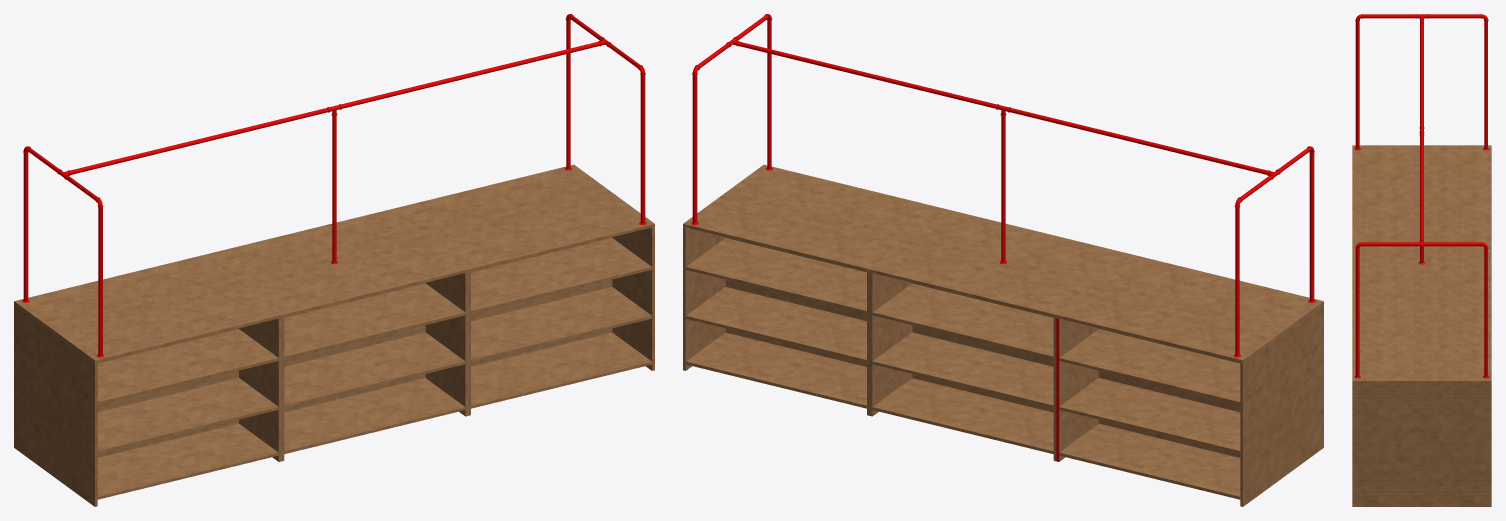
The model's file is ClothHangingTable.fbx.
The picture shows the model from 3 angles, left to right: view 1: azimuth 30°, elevation 25°; view 2: azimuth 150°, elevation 25°; view 3: azimuth 270°, elevation 25°; orthographic projection. The views are drawn at different scales.
Parts seen in each view (by area): view 1: ClothHangingTable; view 2: ClothHangingTable; view 3: ClothHangingTable.
Part boxes in pixels (x1,y1,x2,y2): ClothHangingTable: (14, 14, 654, 506); ClothHangingTable: (683, 14, 1323, 506); ClothHangingTable: (1352, 14, 1491, 506).
Bounding box in the file's own units: 365 × 189 × 91.43.
